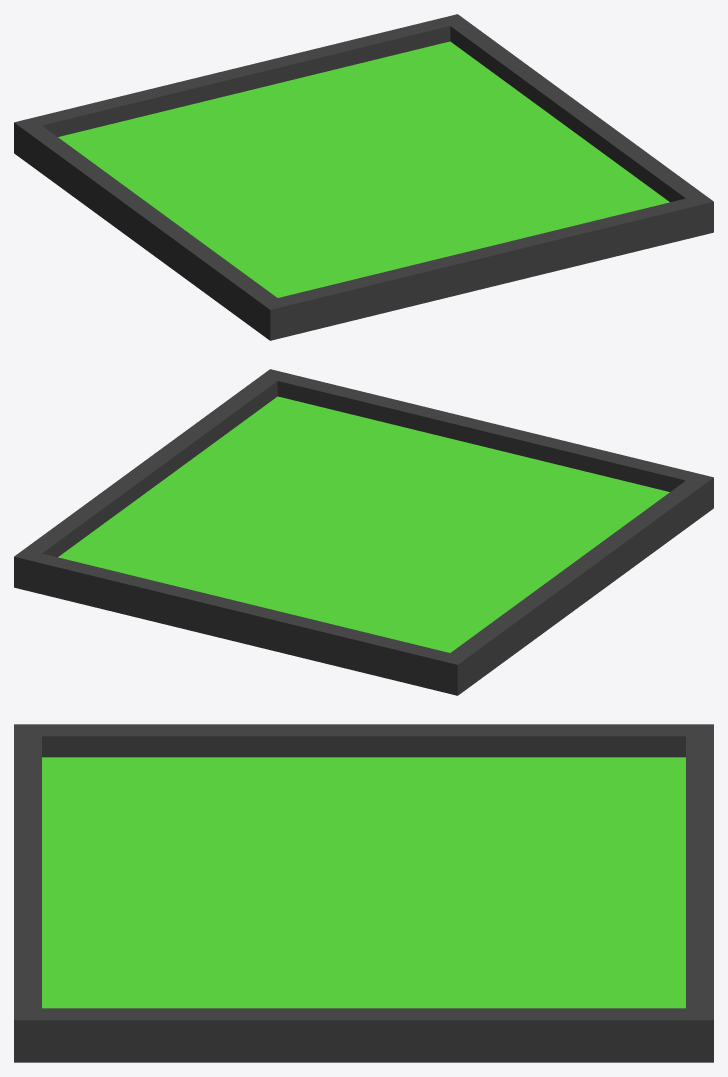
The model's file is TreeBase.fbx.
3 views of the same model, one above another, from view 1: azimuth 30°, elevation 25°; view 2: azimuth 150°, elevation 25°; view 3: azimuth 270°, elevation 25° (orthographic). The views are drawn at different scales.
Parts seen in each view (by area): view 1: Base.001; view 2: Base.001; view 3: Base.001.
Boxes of the visible parts, <box> form: Base.001: <box>14,14,713,340</box>; Base.001: <box>14,369,713,695</box>; Base.001: <box>14,724,713,1062</box>.
Size of the model in its own units: 150 by 10 by 150.
